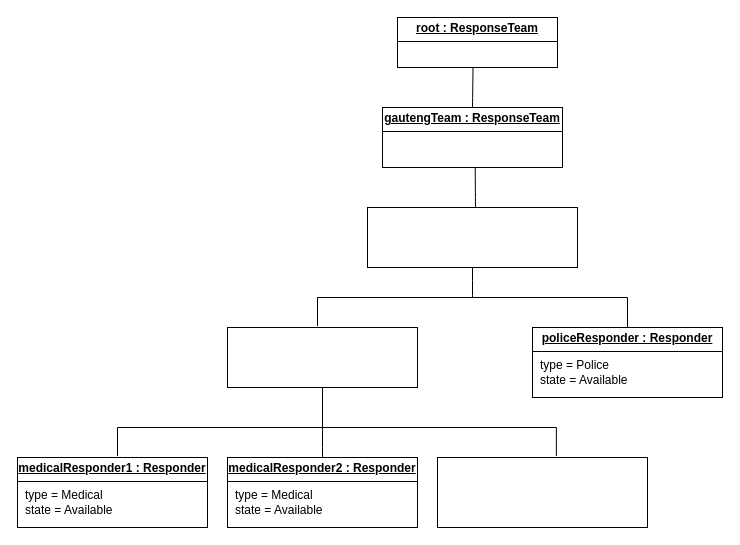
This 740x545 diagram has some shape labels left out. The shapes that lost their labels are listed below. From the top down, each one's box as (x1, y1, x2, y2) in pixels, then its label:
(366, 206, 578, 268): pretoriaTeam : ResponseTeam
(226, 326, 418, 388): medicalTeam : ResponseTeam
(436, 456, 648, 528): newMedicalResponder : Responder type = Medical state = Available
